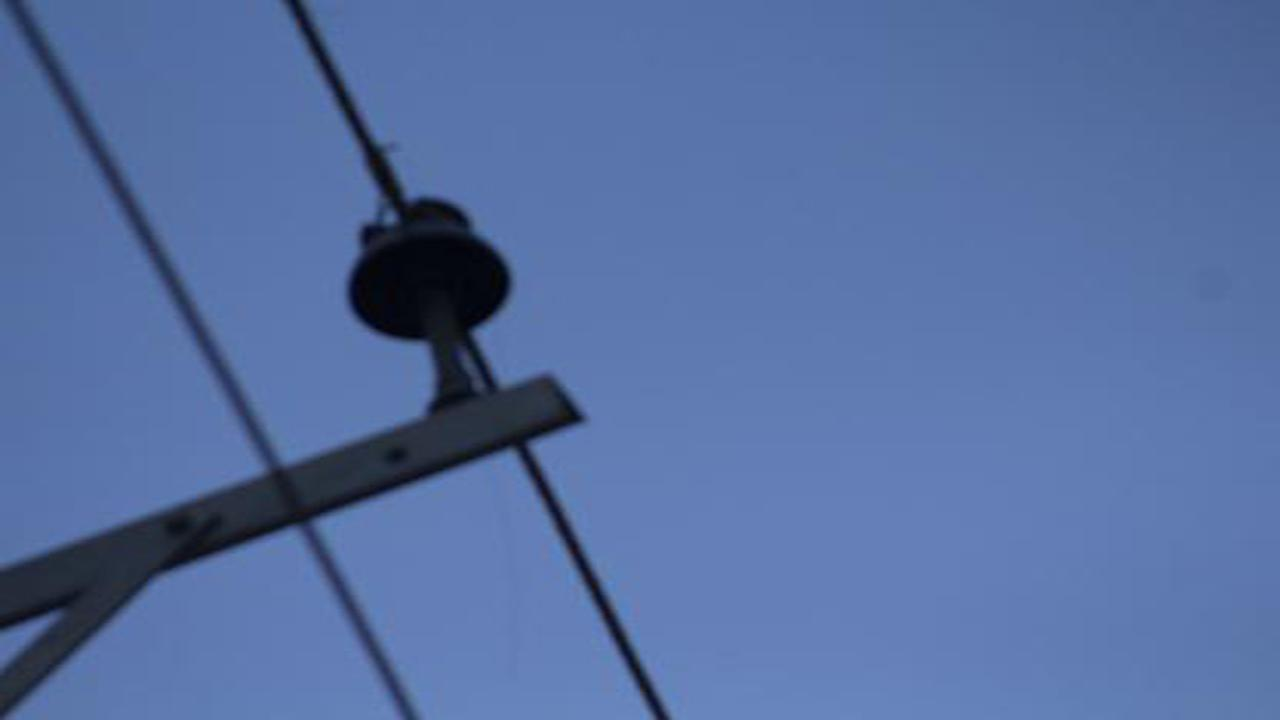insulator_pin: (339, 198, 524, 349)
